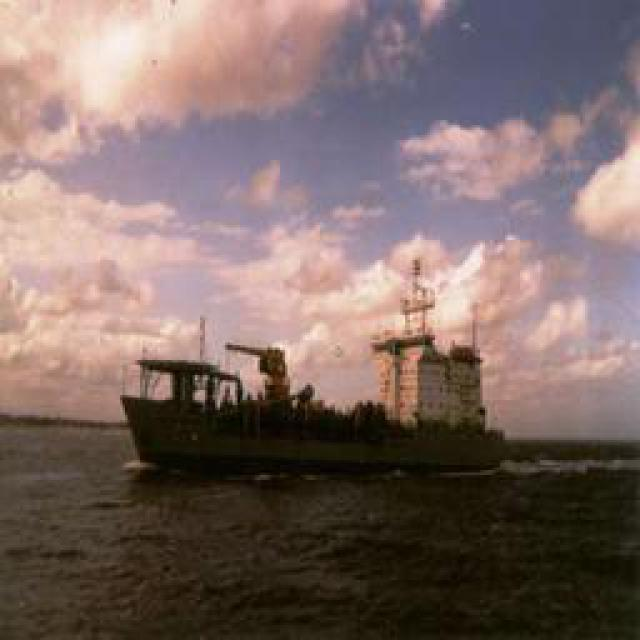Ship: (122, 349, 520, 484)
